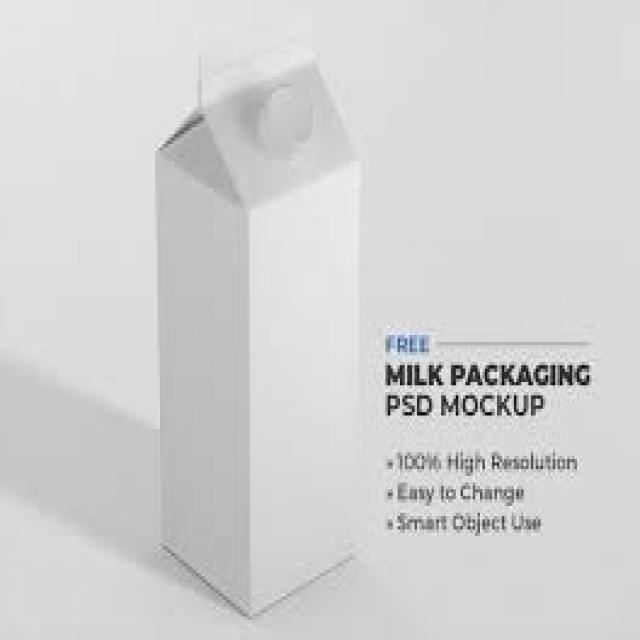non_white_jug: (135, 21, 372, 622)
